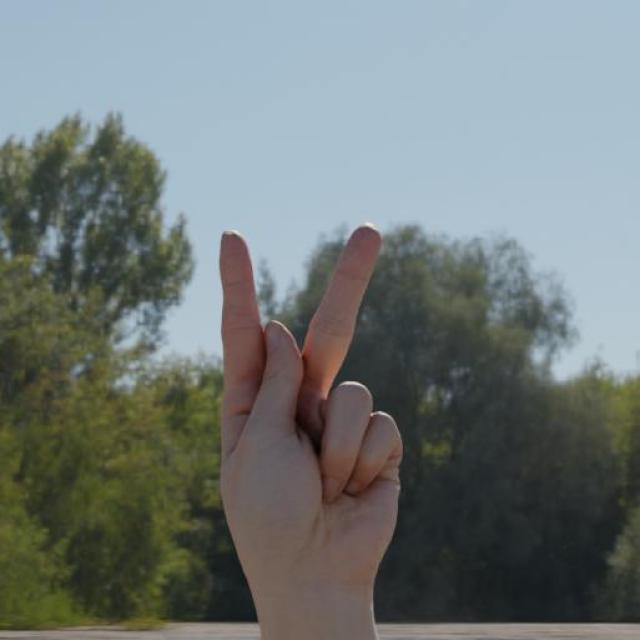K: (171, 180, 433, 640)
